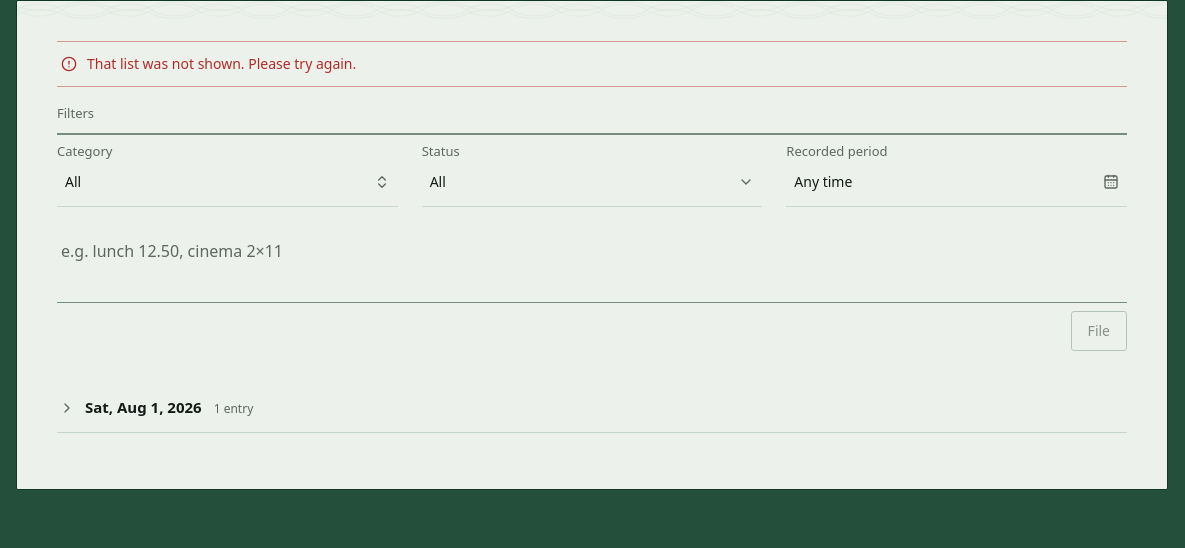
it: the expenses page › still lists the expenses, with their categories unnamed, when the categories read fails
This screenshot has width=1185, height=548.
expect the message reads "That list was not shown. Please try again.": met, box [87,54,356,73]
Click the button "Sat, Aug 1, 2026 1 entry". click: (143, 407)
box: [57,383,1127,432]
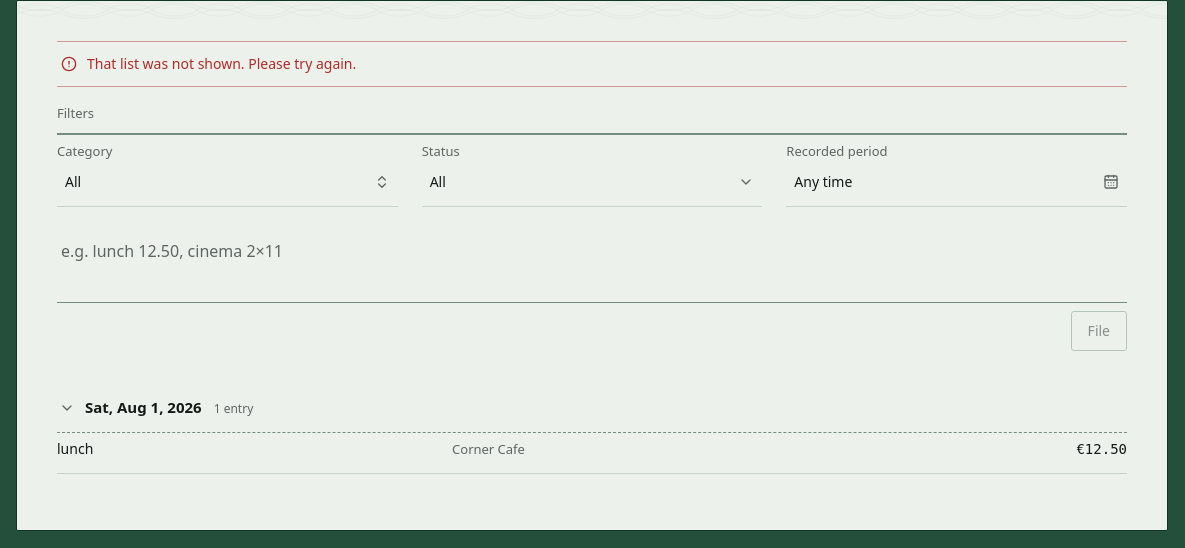
expect the text "lunch" is shown: met, box [57,439,93,458]
